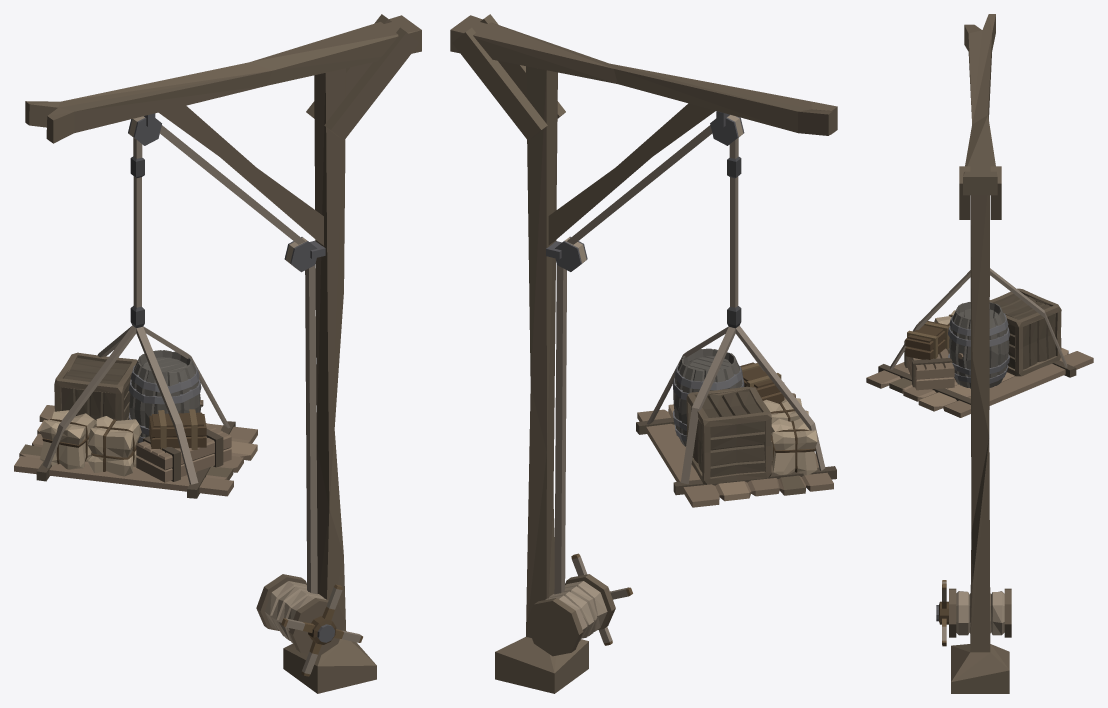
Rendered from SM_Prop_Crane_01.glb.
The picture shows the model from 3 angles, left to right: view 1: azimuth 30°, elevation 25°; view 2: azimuth 150°, elevation 25°; view 3: azimuth 270°, elevation 25°; orthographic projection. The views are drawn at different scales.
Parts seen in each view (by area): view 1: SM_Prop_Crane_01_part00; view 2: SM_Prop_Crane_01_part00; view 3: SM_Prop_Crane_01_part00.
Boxes of the visible parts, left/top/right/bottom form: SM_Prop_Crane_01_part00: left=14, top=14, right=421, bottom=693; SM_Prop_Crane_01_part00: left=450, top=14, right=837, bottom=693; SM_Prop_Crane_01_part00: left=866, top=14, right=1093, bottom=693.
Bounding box in the file's own units: 4.61 × 7.29 × 2.76.
Materials: 1 (1 with a texture image).
